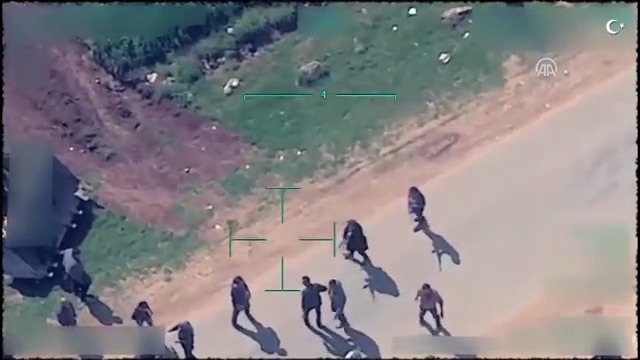insan: (226, 269, 264, 334), (338, 208, 378, 268), (412, 271, 452, 329), (393, 179, 435, 234), (298, 268, 324, 331), (325, 274, 351, 330), (173, 310, 199, 360)
